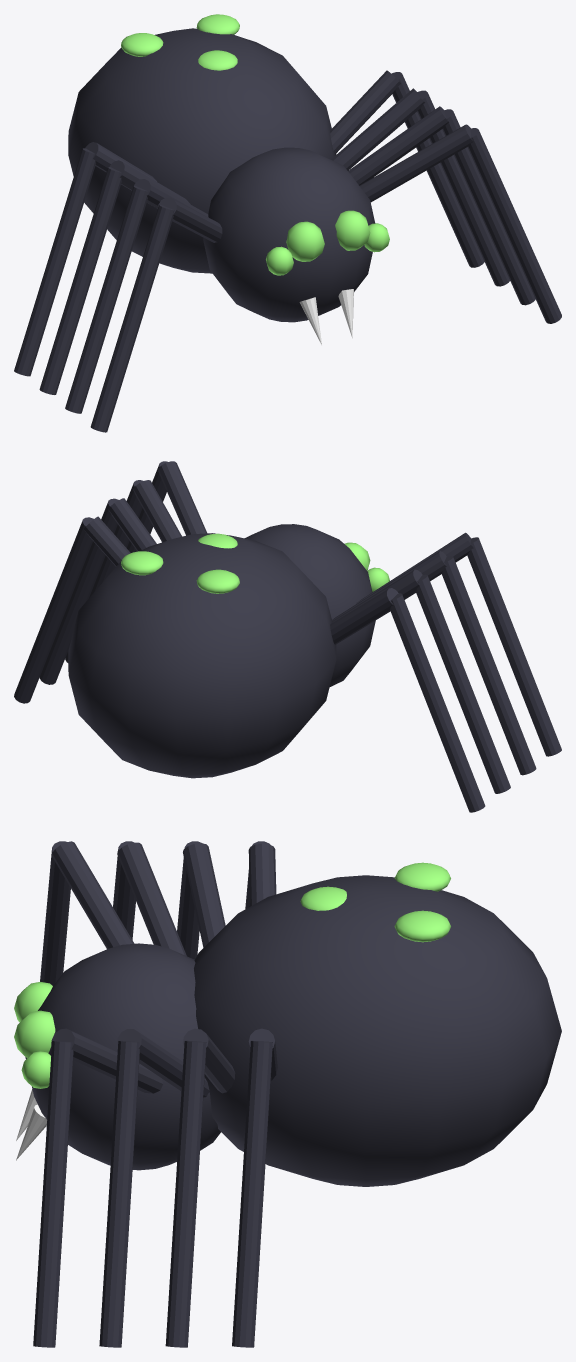
The picture shows the model from 3 angles, top to bottom: view 1: azimuth 30°, elevation 25°; view 2: azimuth 150°, elevation 25°; view 3: azimuth 270°, elevation 25°; orthographic projection. The views are drawn at different scales.
Visible parts, largest first — view 1: Cave Spider; view 2: Cave Spider; view 3: Cave Spider.
Boxes of the visible parts, left/top/right/bottom form: Cave Spider: left=14, top=14, right=561, bottom=432; Cave Spider: left=14, top=461, right=561, bottom=812; Cave Spider: left=14, top=841, right=561, bottom=1347.
Bounding box in the file's own units: 3.71 × 1.83 × 2.89.
1 material, 1 textured.
